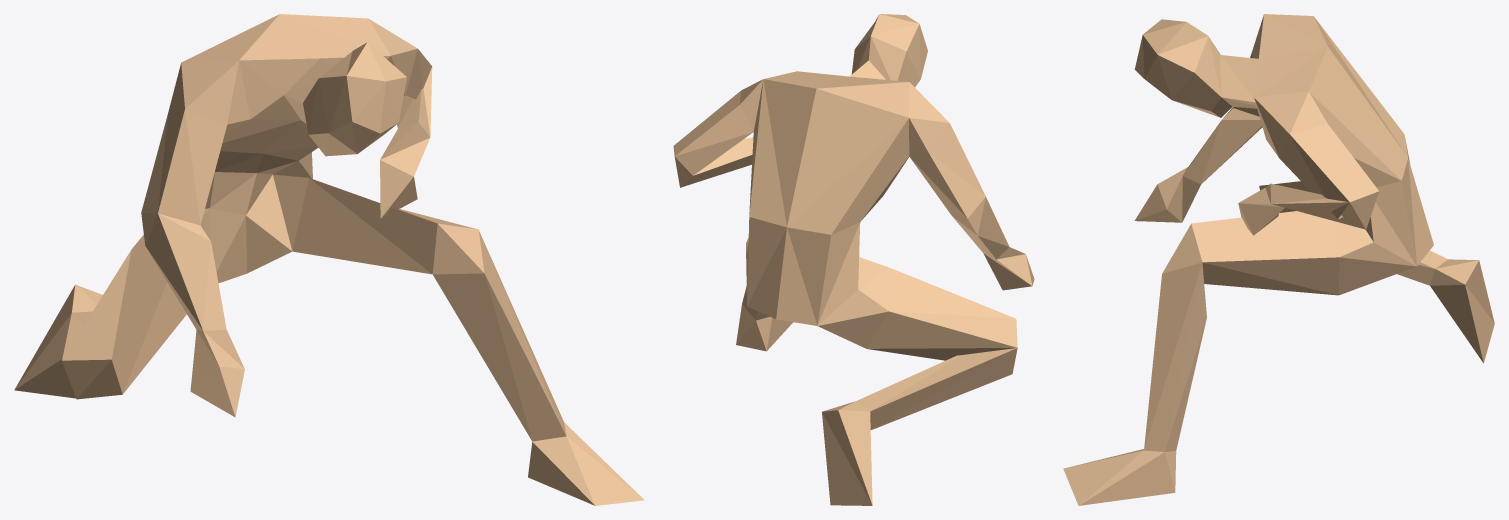
3 renders of one model, left to right at view 1: azimuth 30°, elevation 25°; view 2: azimuth 150°, elevation 25°; view 3: azimuth 270°, elevation 25°, orthographic. The views are drawn at different scales.
Size of the model in its own units: 1.21 by 1.19 by 1.18.
